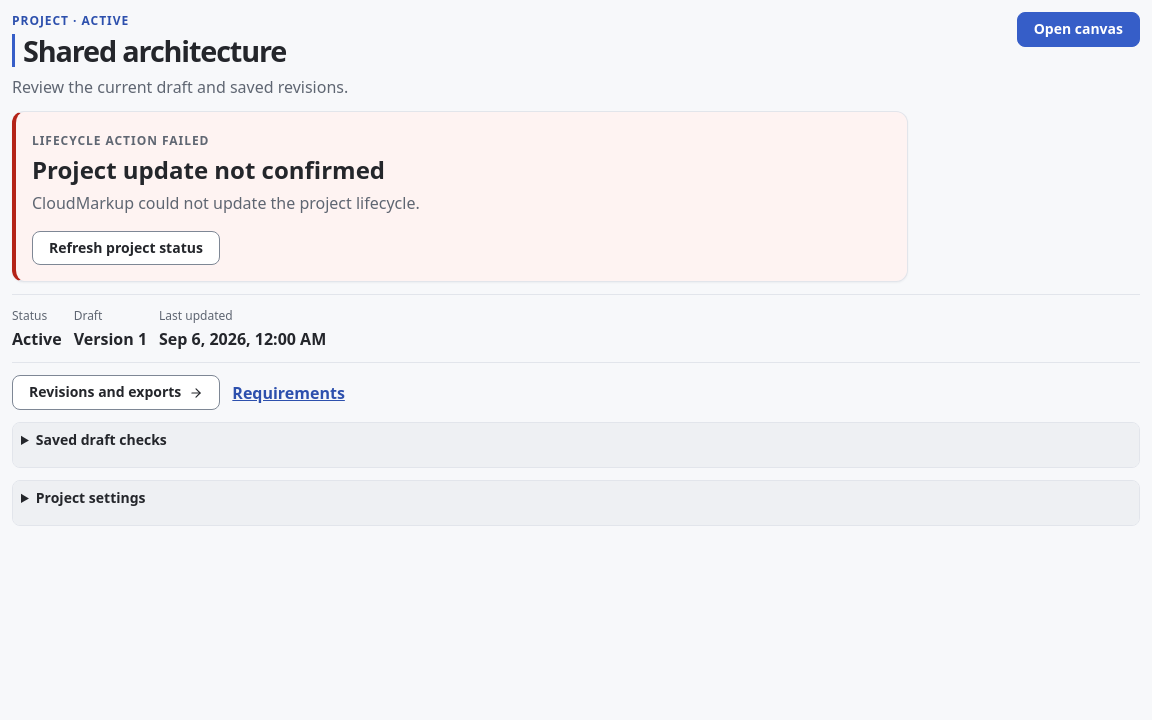
Test case: project lifecycle navigation and cache isolation › offers a read-only refresh after an ambiguous failure without sending another delete
Earlier steps of the test are not shown.
Expected: the message shows "Project update not confirmed", [32,153,385,186]
Click the button "Refresh project status": (126, 248) [32,230,220,265]
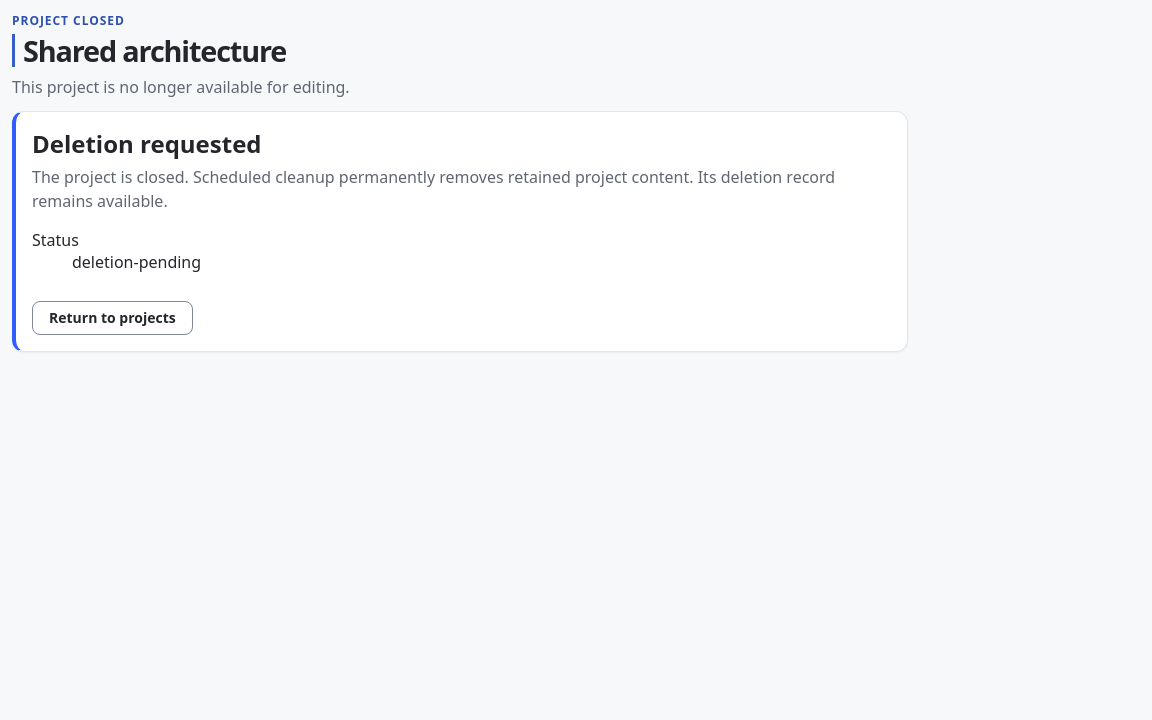
Result: the heading "Deletion requested" is shown at [32,127,262,160]
